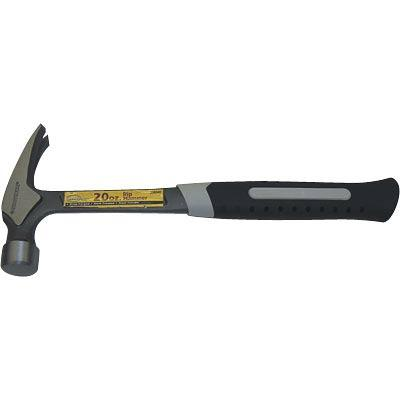hammer: (0, 120, 399, 277)
